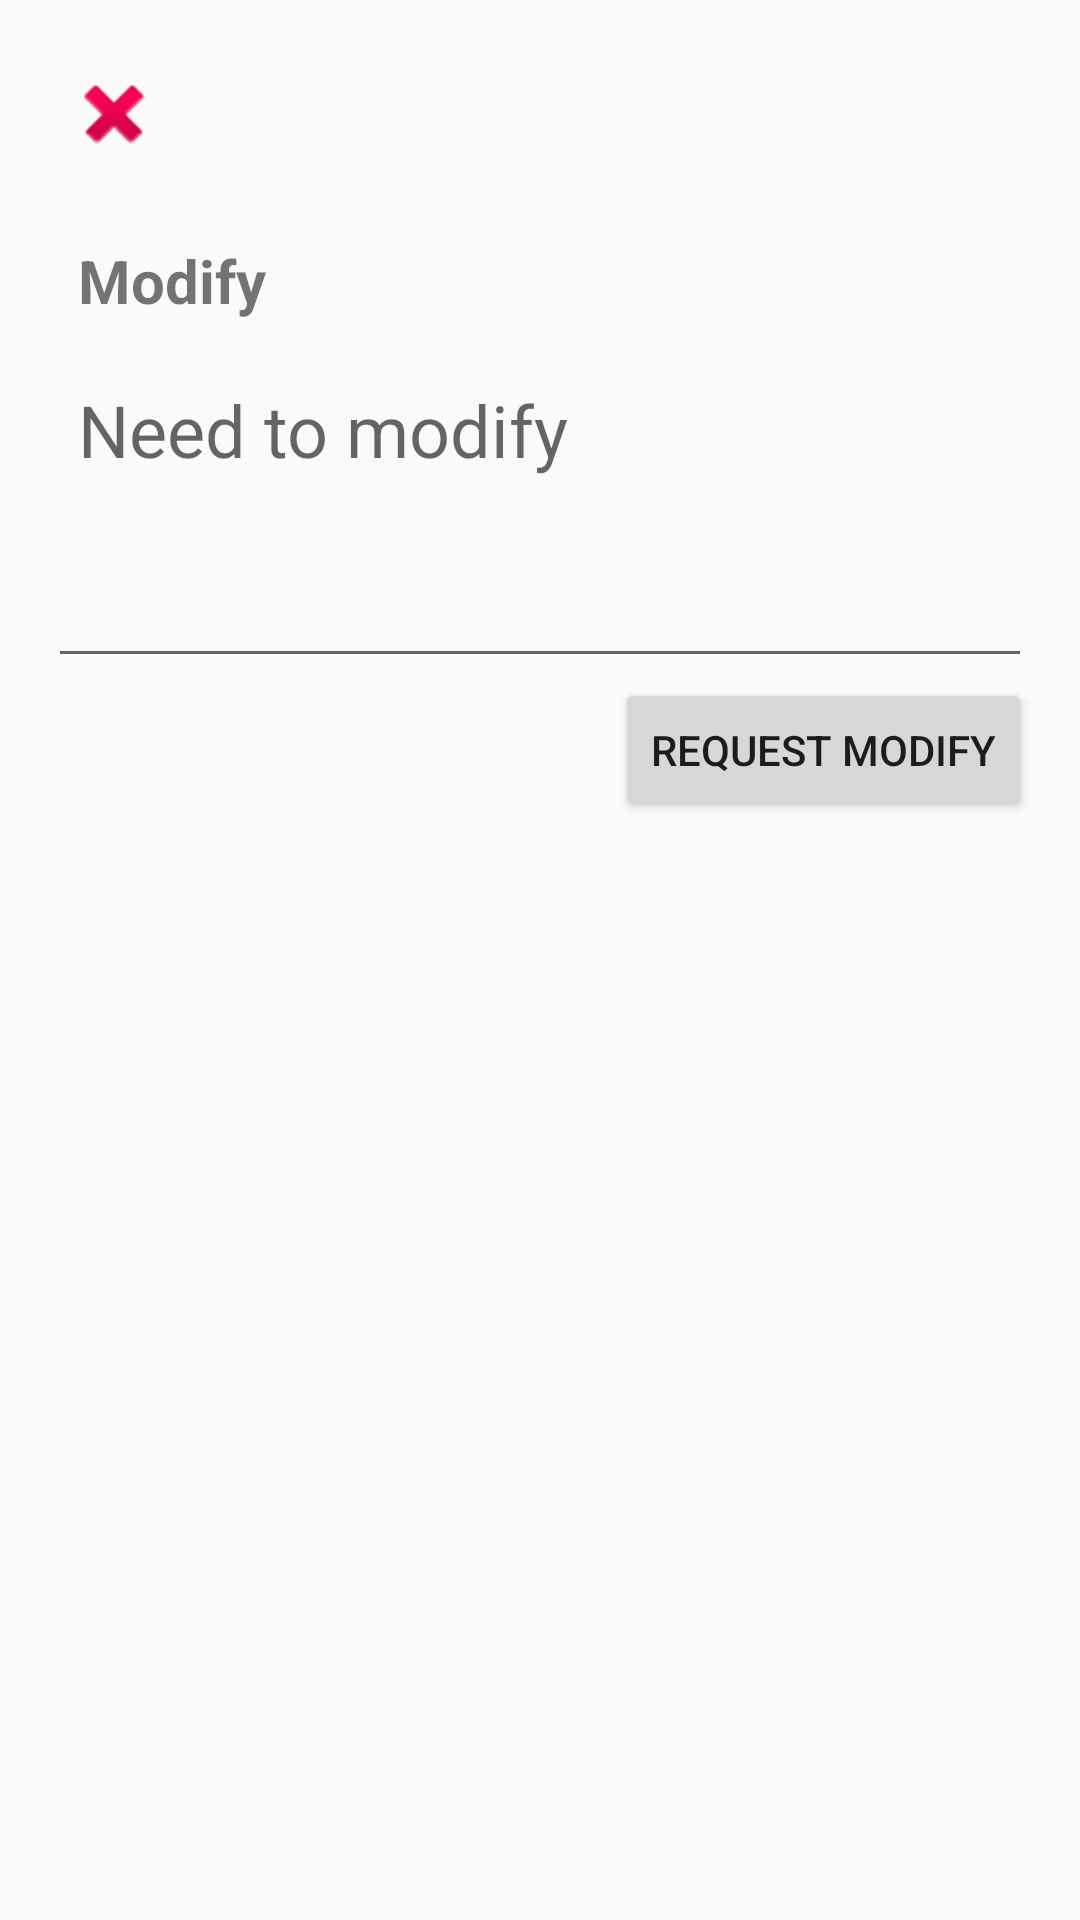

Icons on this 1080 × 1920 Android screen, each with its box as (x1, y1, x2, y2):
delete: (83, 85, 145, 144)
